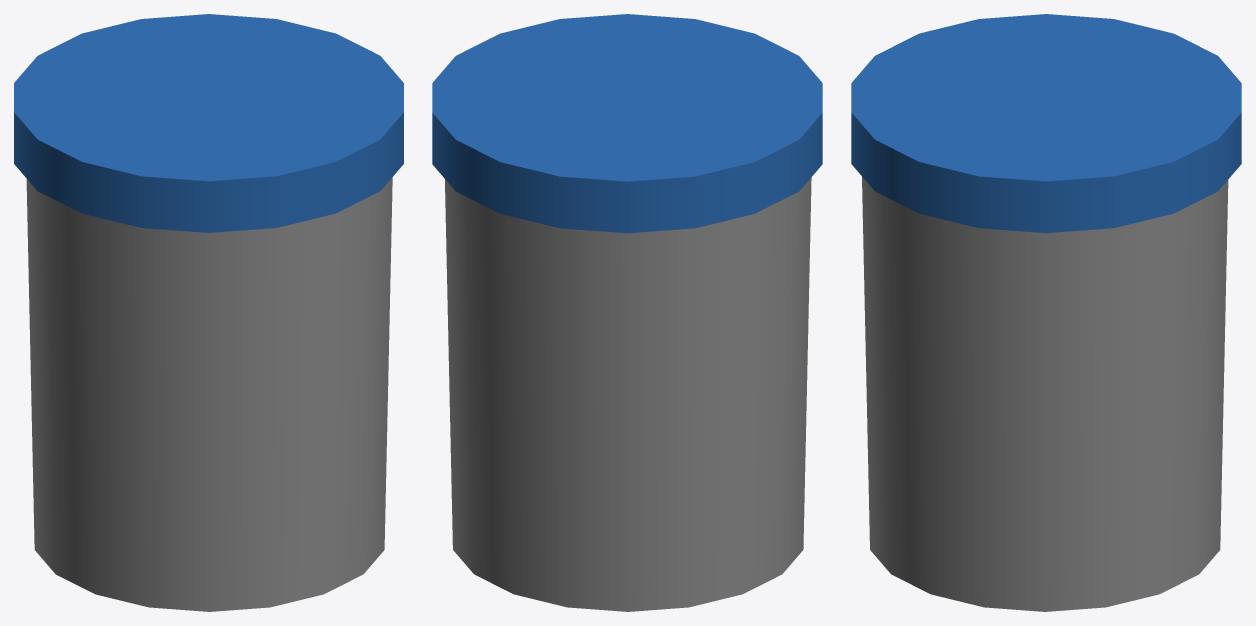
The model's file is Container 2.FBX.
3 views of the same model, side by side, from view 1: azimuth 30°, elevation 25°; view 2: azimuth 150°, elevation 25°; view 3: azimuth 270°, elevation 25° (orthographic).
Parts seen in each view (by area): view 1: Container 2; view 2: Container 2; view 3: Container 2.
Part boxes in pixels (box(x1,y1,x2,y2)): Container 2: box(14, 14, 403, 611); Container 2: box(432, 14, 822, 611); Container 2: box(851, 14, 1241, 611).
Size of the model in its own units: 57.71 by 56.83 by 70.55.
